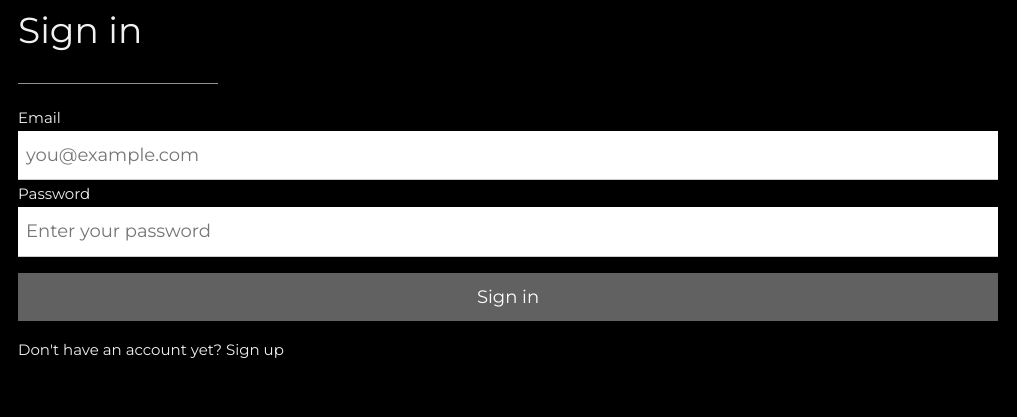
Test case: Signin › shows validation error when email or password is empty
Click the button "Sign in" at (508,297), box [18, 273, 998, 321]
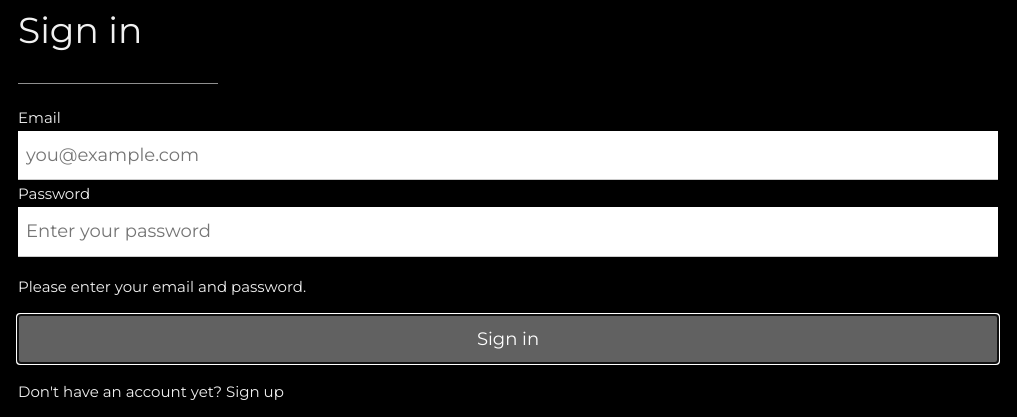
Now the message reads "Please enter your email and password.", box [18, 277, 306, 296]
